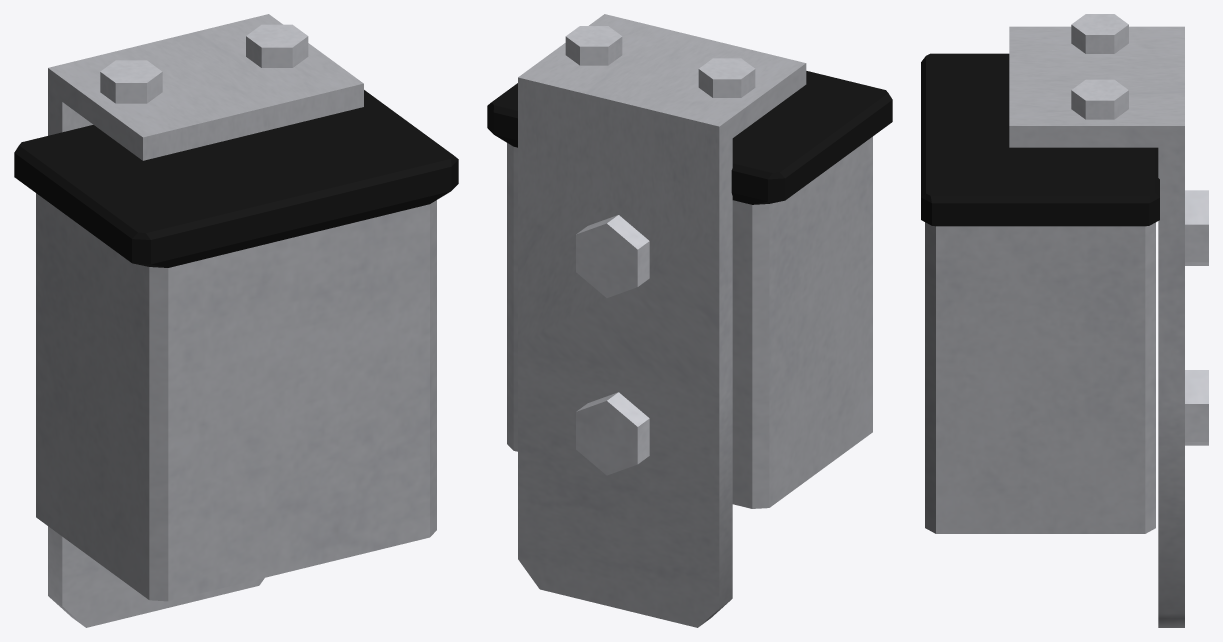
File: TopCRC.glb
3 views of the same model, side by side, from view 1: azimuth 30°, elevation 25°; view 2: azimuth 150°, elevation 25°; view 3: azimuth 270°, elevation 25° (orthographic). The views are drawn at different scales.
Parts seen in each view (by area): view 1: LegsTopRC; view 2: LegsTopRC; view 3: LegsTopRC.
Boxes of the visible parts, bbox=[...] form: LegsTopRC: bbox=[14, 14, 458, 627]; LegsTopRC: bbox=[487, 14, 892, 627]; LegsTopRC: bbox=[921, 14, 1208, 627].
Size of the model in its own units: 0.224 by 0.3776 by 0.1852.
Materials: 4 (3 with a texture image).
